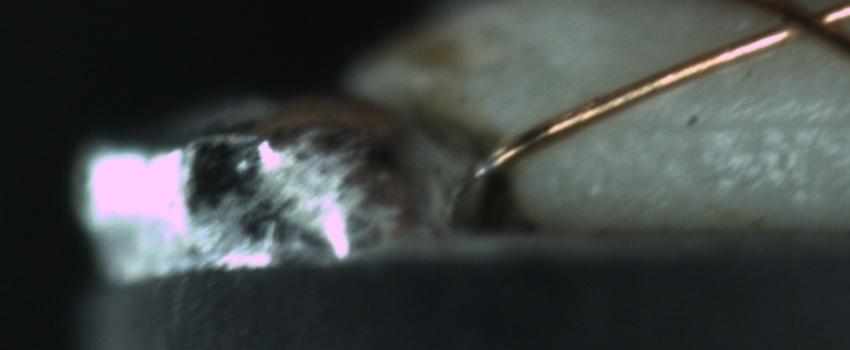CL: (754, 0, 843, 47)
DL: (621, 88, 848, 156)
